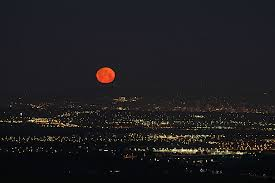moon: (94, 65, 117, 85)
